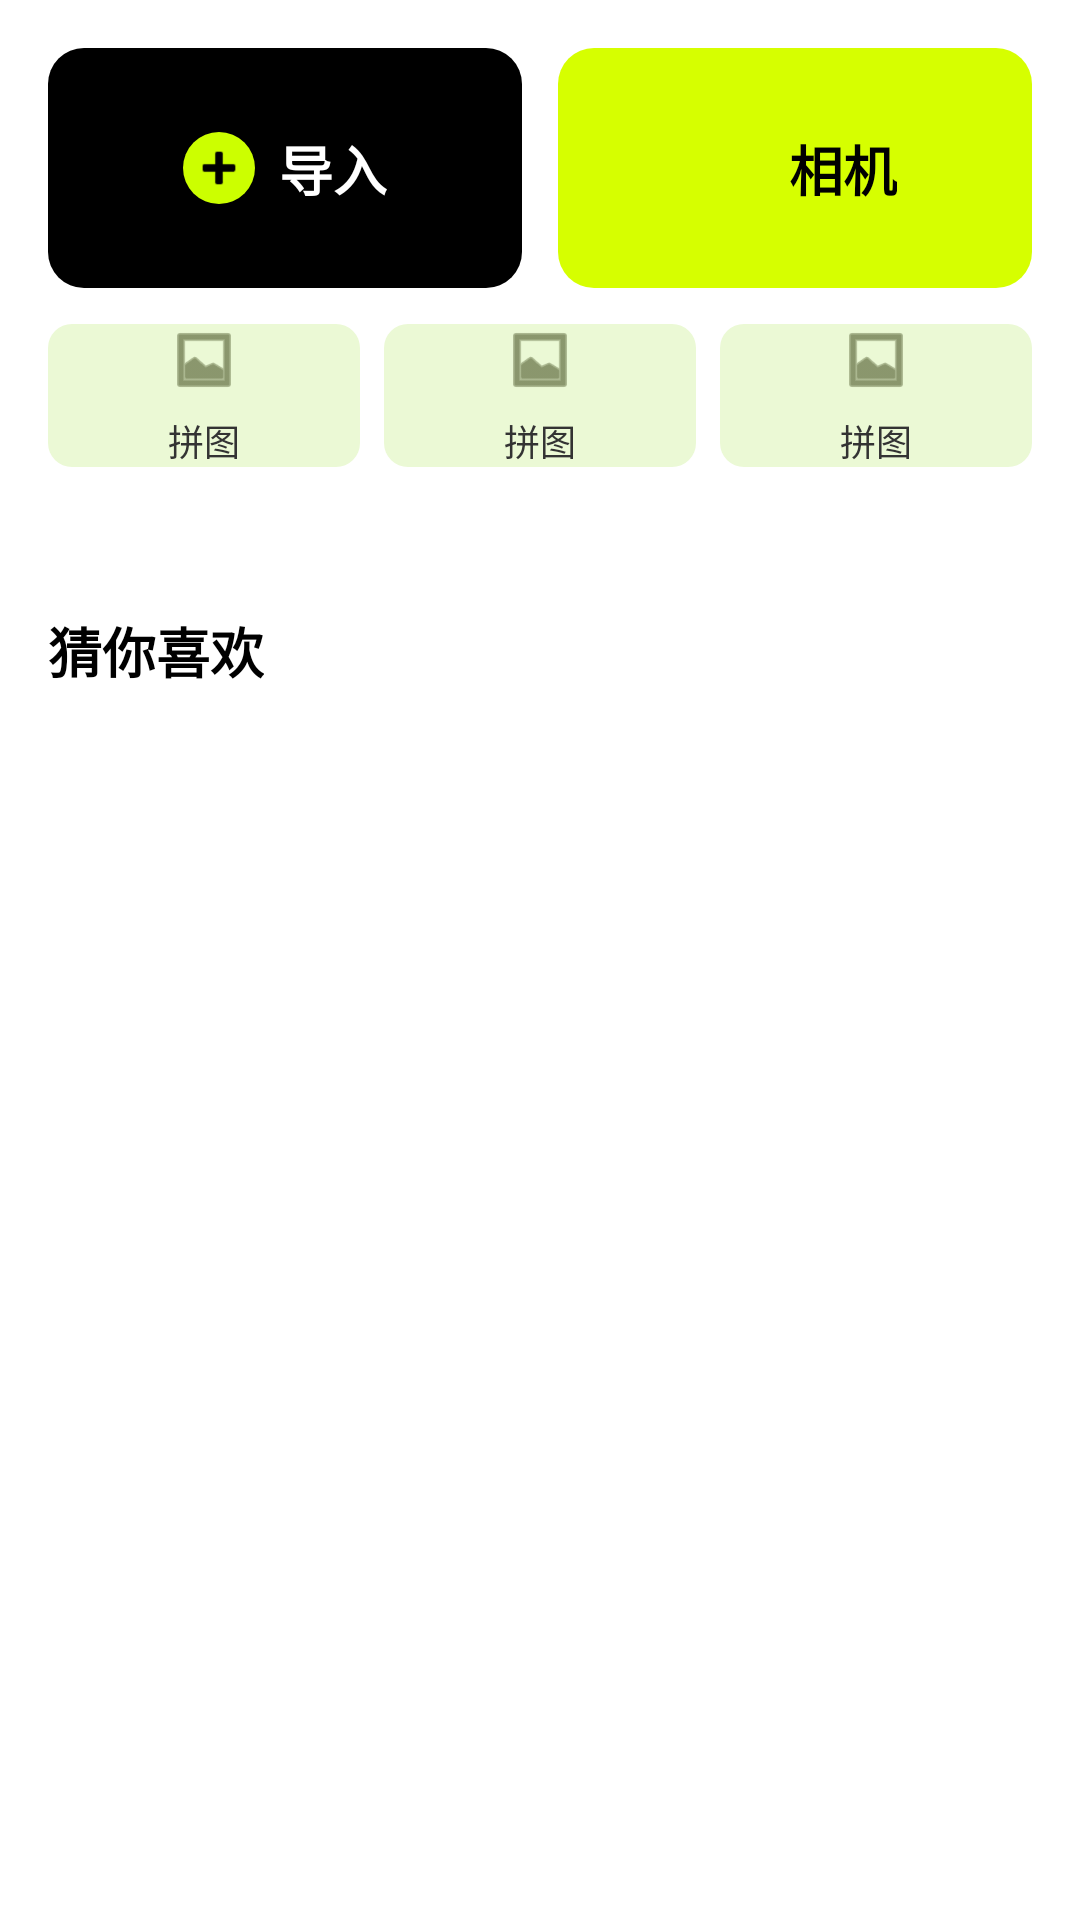

Screen size 1080 × 1920. Icon name, then its box in pixels as (left=x1, top=y1, right=x2, bottom=y2):
add: (left=183, top=132, right=255, bottom=204)
gallery: (left=177, top=333, right=231, bottom=387), (left=513, top=333, right=567, bottom=387), (left=849, top=333, right=903, bottom=387)
